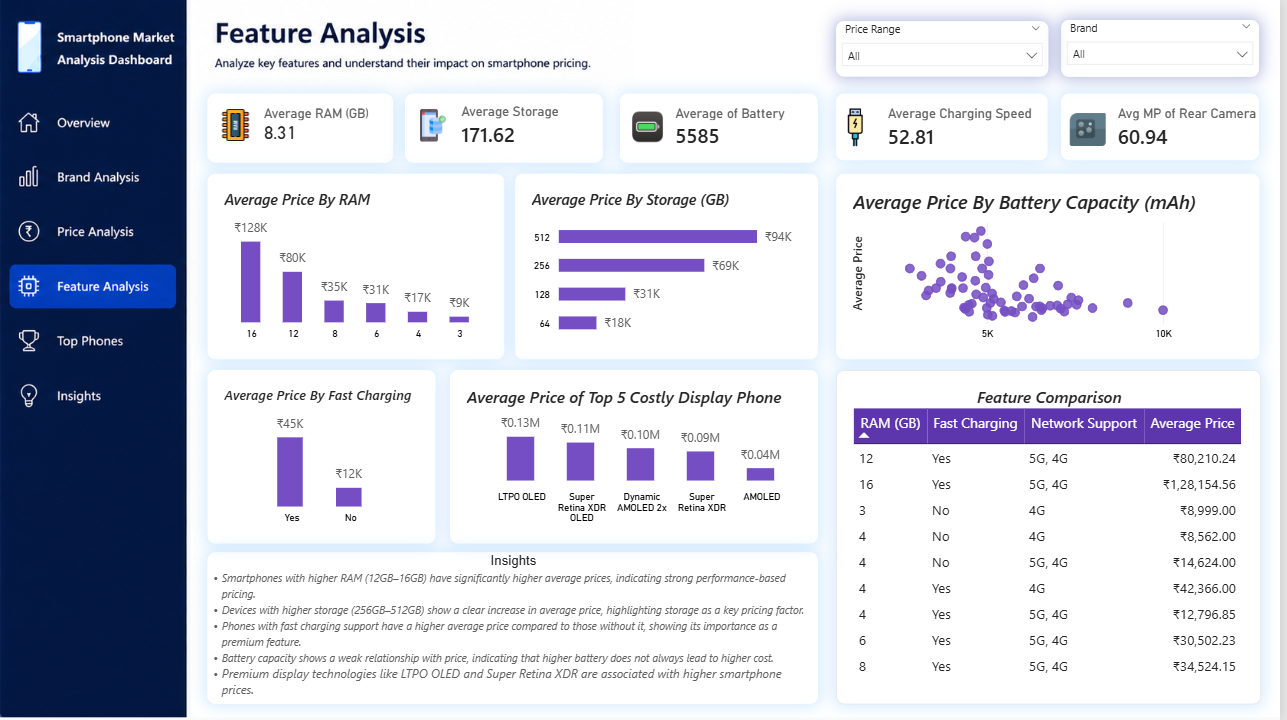

Layout of this report page (visuals, bound fields, positions):
{"tool":"powerbi","page":{"name":"Feature Analysis","canvas":[1280,720],"ordinal":3},"visuals":[{"type":"shape","box":[207.5,94.1,185.8,68.8],"z":0},{"type":"actionButton","box":[13.3,318.5,147.2,51.9],"z":1000},{"type":"actionButton","box":[13.3,370.4,147.2,49.5],"z":2000},{"type":"actionButton","box":[13.3,203.9,147.2,51.9],"z":3000},{"type":"actionButton","box":[13.3,154.4,147.2,49.5],"z":4000},{"type":"actionButton","box":[13.3,96.5,147.2,45.8],"z":5000},{"type":"slicer","fields":{"Values":["Phone_Specs.brand"]},"box":[1061.7,20.5,197.9,56.7],"z":6000},{"type":"slicer","fields":{"Values":["Phone_Specs.Price_Range"]},"box":[836.1,21.7,212.3,55.5],"z":7000},{"type":"slicer","title":"Launch Date","fields":{"Values":["Phone_Specs.launch_date"]},"box":[1464,19.9,282.3,83.2],"z":8000},{"type":"cardVisual","fields":{"Data":["Avg(Phone_Specs.RAM (GB) - Copy)"]},"box":[207.5,96.5,197.9,57.9],"z":9000},{"type":"shape","box":[405.4,94.1,197.9,68.8],"z":10000},{"type":"cardVisual","fields":{"Data":["Avg(Phone_Specs.Storage (GB) - Copy)"]},"box":[405.4,94.1,197.9,63.9],"z":11000},{"type":"shape","box":[620.1,94.1,197.9,68.8],"z":12000},{"type":"shape","box":[836.1,94.1,211.1,66.4],"z":13000},{"type":"shape","box":[1061.7,94.1,197.9,66.4],"z":14000},{"type":"cardVisual","fields":{"Data":["Avg(Phone_Specs.Battery)"]},"box":[620.1,94.1,178.6,66.4],"z":15000},{"type":"cardVisual","fields":{"Data":["Avg(Phone_Specs.Charging Speed)"]},"box":[822.8,90.5,224.4,74.8],"z":16000},{"type":"columnChart","title":"Average Price By RAM","fields":{"Category":["Phone_Specs.RAM (GB)"],"Y":["Avg(Phone_Specs.price_inr)"]},"box":[207.5,173.7,296.8,185.8],"z":17000},{"type":"barChart","title":"Average Price By Storage (GB)","fields":{"Category":["Phone_Specs.Storage (GB)"],"Y":["Avg(Phone_Specs.price_inr)"]},"box":[515.2,173.7,302.8,185.8],"z":18000},{"type":"scatterChart","title":"Average Price By Battery Capacity (mAh)","fields":{"Y":["Avg(Phone_Specs.price_inr)"],"X":["Phone_Specs.Battery"]},"box":[836.1,173.7,423.5,185.8],"z":19000},{"type":"columnChart","title":"Average Price By Fast Charging","fields":{"Y":["Avg(Phone_Specs.price_inr)"],"Category":["Phone_Specs.Fast Charging"]},"box":[207.5,370.2,228,173.7],"z":20000},{"type":"columnChart","title":"Average Price of Top 5 Costly Display Phone","fields":{"Y":["Avg(Phone_Specs.price_inr)"],"Category":["Phone_Specs.display_type"]},"box":[450,370.2,368,173.7],"z":21000},{"type":"tableEx","title":"Feature Comparison","fields":{"Values":["Phone_Specs.RAM (GB)","Phone_Specs.Fast Charging","Phone_Specs.network_support","Avg(Phone_Specs.price_inr)"]},"box":[836.1,370.4,424.7,334.2],"z":22000},{"type":"cardVisual","fields":{"Data":["Avg(Phone_Specs.Rear Camera - Copy.1)"]},"box":[1055.6,90.5,224.4,74.8],"z":23000},{"type":"shape","title":"Insights","box":[207.5,552.5,610.5,150.8],"z":24000},{"type":"textbox","box":[203.9,568.2,602,142.4],"z":25000}]}

Visuals, with their boxes on the page's 1280x720 design canvas (x1, y1, x2, y2). These are canvas units, not pixel positions in the 1287x720 screenshot, which may show the page scaled, cropped or inside an application window:
shape: 208 94 393 163
actionButton: 13 318 160 370
actionButton: 13 370 160 420
actionButton: 13 204 160 256
actionButton: 13 154 160 204
actionButton: 13 96 160 142
slicer - Phone_Specs.brand: 1062 20 1260 77
slicer - Phone_Specs.Price_Range: 836 22 1048 77
"Launch Date" slicer: 1464 20 1746 103
cardVisual - Avg(Phone_Specs.RAM (GB) - Copy): 208 96 405 154
shape: 405 94 603 163
cardVisual - Avg(Phone_Specs.Storage (GB) - Copy): 405 94 603 158
shape: 620 94 818 163
shape: 836 94 1047 160
shape: 1062 94 1260 160
cardVisual - Avg(Phone_Specs.Battery): 620 94 799 160
cardVisual - Avg(Phone_Specs.Charging Speed): 823 90 1047 165
"Average Price By RAM" columnChart: 208 174 504 360
"Average Price By Storage (GB)" barChart: 515 174 818 360
"Average Price By Battery Capacity (mAh)" scatterChart: 836 174 1260 360
"Average Price By Fast Charging" columnChart: 208 370 436 544
"Average Price of Top 5 Costly Display Phone" columnChart: 450 370 818 544
"Feature Comparison" tableEx: 836 370 1261 705
cardVisual - Avg(Phone_Specs.Rear Camera - Copy.1): 1056 90 1280 165
"Insights" shape: 208 552 818 703
textbox: 204 568 806 711
